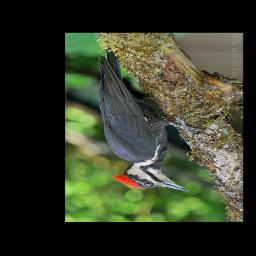Woodpecker: (88, 46, 203, 193)
